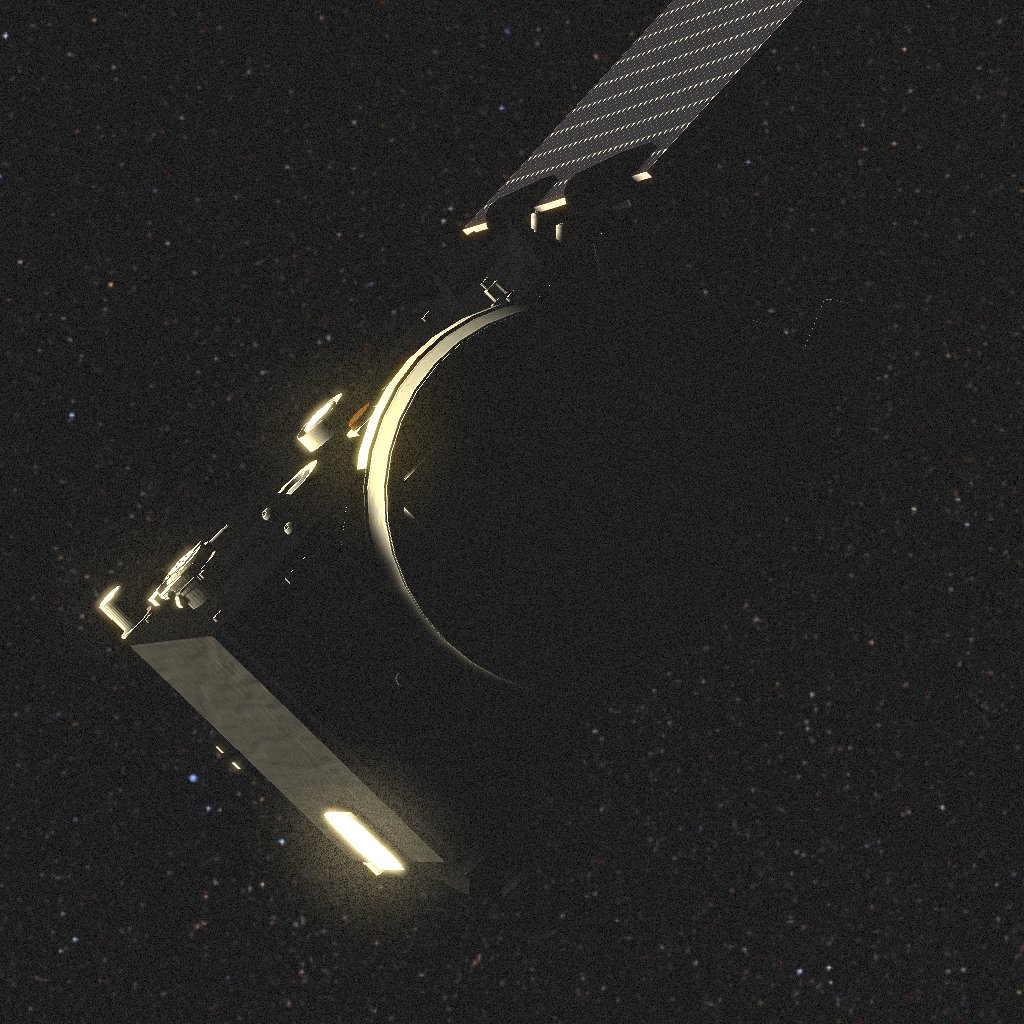proba_3_csc: (100, 0, 884, 899)
